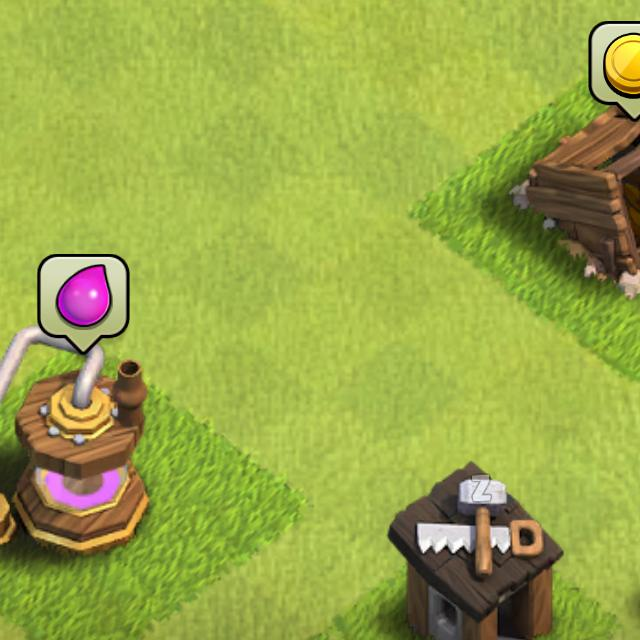Elixir: (34, 256, 129, 355)
coin: (590, 22, 640, 124)
